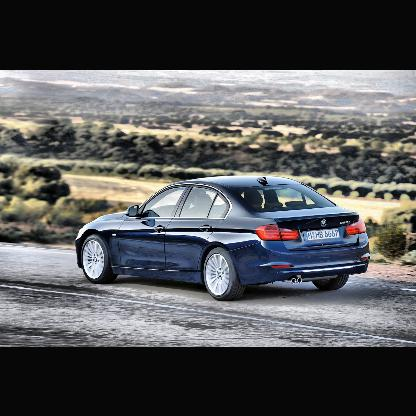BMW ActiveHybrid 5 Sedan 2012: (77, 177, 372, 302)
